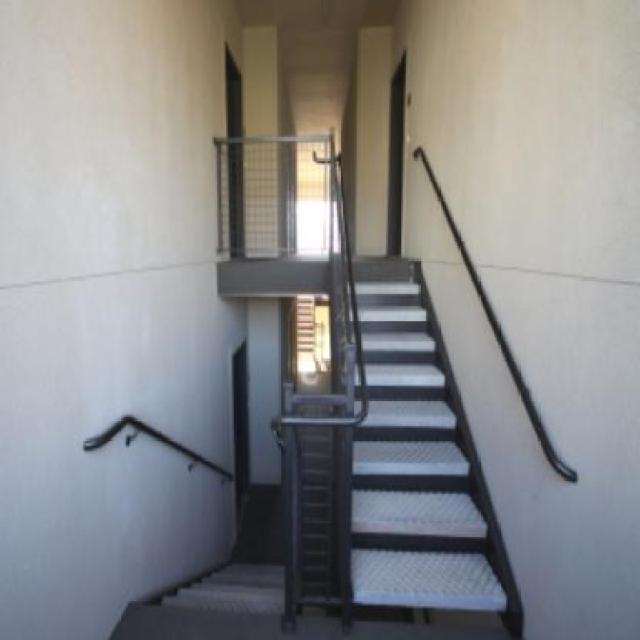stair: (121, 151, 514, 638)
